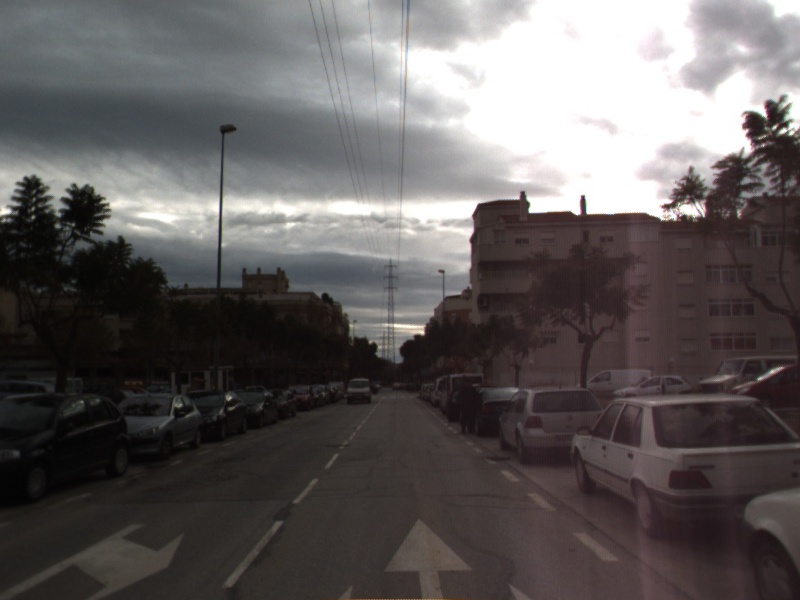STRAIGHT: (380, 515, 476, 600)
